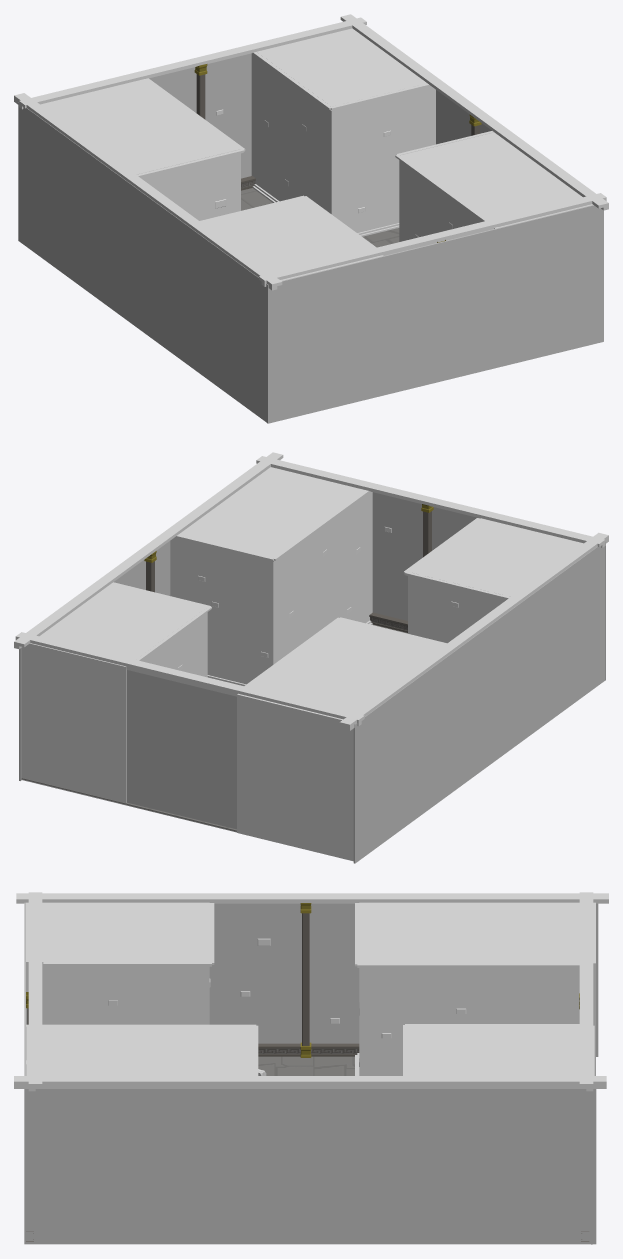
The picture shows the model from 3 angles, top to bottom: view 1: azimuth 30°, elevation 25°; view 2: azimuth 150°, elevation 25°; view 3: azimuth 270°, elevation 25°; orthographic projection. The views are drawn at different scales.
Parts seen in each view (by area): view 1: 벽, Box056, Box076, Box057, 1, Object090; view 2: Box056, 벽, Box076, Box057, Object090, 1; view 3: 벽, Box056, Box076, Box057, 1, Object090, Object091, 벽돌벽011.
Boxes of the visible parts, <box> form: 벽: <box>18,53,603,423</box>; Box056: <box>40,28,592,280</box>; Box076: <box>14,14,608,290</box>; Box057: <box>136,52,498,248</box>; 1: <box>241,188,399,247</box>; Object090: <box>194,64,481,242</box>; Box056: <box>21,467,583,861</box>; 벽: <box>19,492,605,863</box>; Box076: <box>14,452,608,730</box>; Box057: <box>112,490,510,686</box>; Object090: <box>144,504,433,592</box>; 1: <box>21,624,407,831</box>; 벽: <box>24,902,598,1244</box>; Box056: <box>26,902,595,1075</box>; Box076: <box>14,892,608,1091</box>; Box057: <box>26,903,579,1075</box>; 1: <box>258,1056,354,1075</box>; Object090: <box>26,903,579,1057</box>; Object091: <box>26,1043,589,1241</box>; 벽돌벽011: <box>26,938,466,1069</box>.
Bounding box in the file's own units: 3117 × 1235 × 4088.
